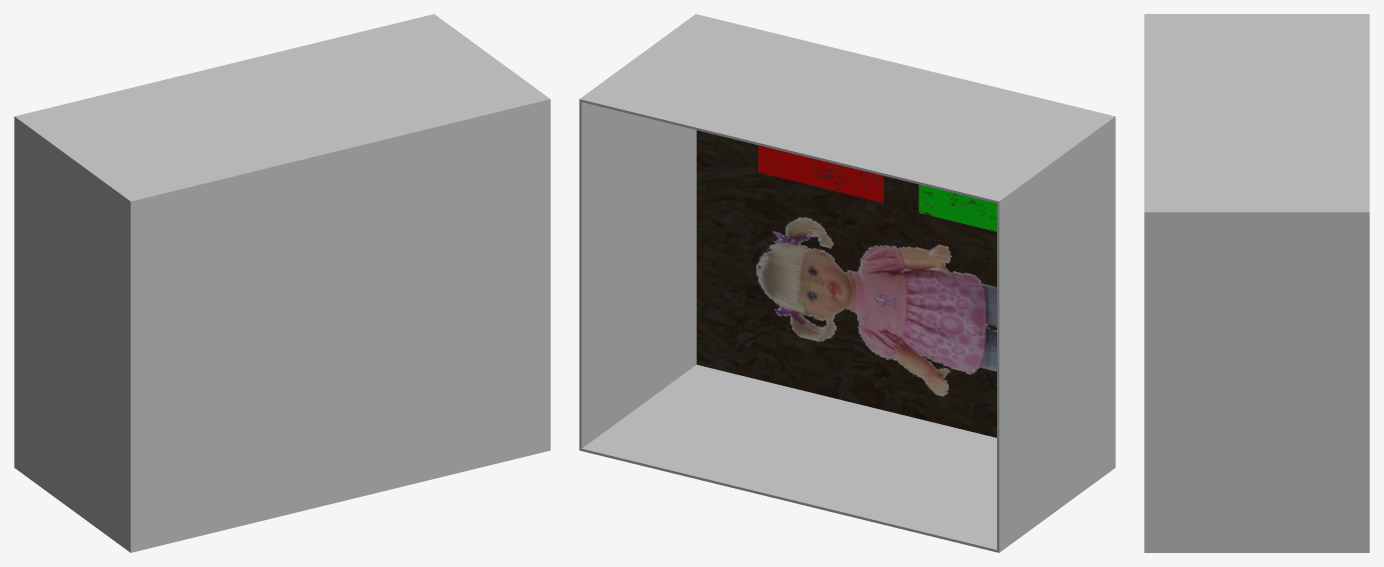
Rendered from victim_with_box_tc.dae.
The picture shows the model from 3 angles, left to right: view 1: azimuth 30°, elevation 25°; view 2: azimuth 150°, elevation 25°; view 3: azimuth 270°, elevation 25°; orthographic projection. The views are drawn at different scales.
Visible parts, largest first — view 1: Cube; view 2: Cube; view 3: Cube.
Boxes of the visible parts, x1=… form: Cube: x1=14, y1=14, x2=550, y2=552; Cube: x1=579, y1=14, x2=1115, y2=552; Cube: x1=1144, y1=14, x2=1369, y2=552.
Size of the model in its own units: 0.5 by 0.24 by 0.4.
